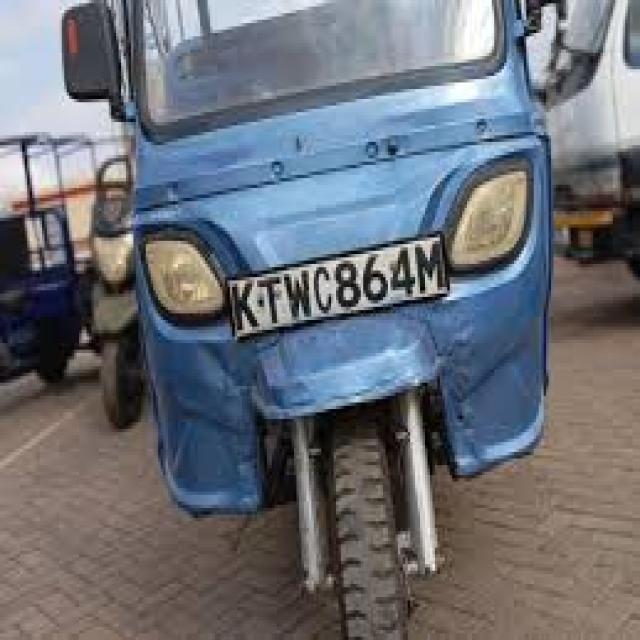tuktuk: (48, 0, 628, 640)
